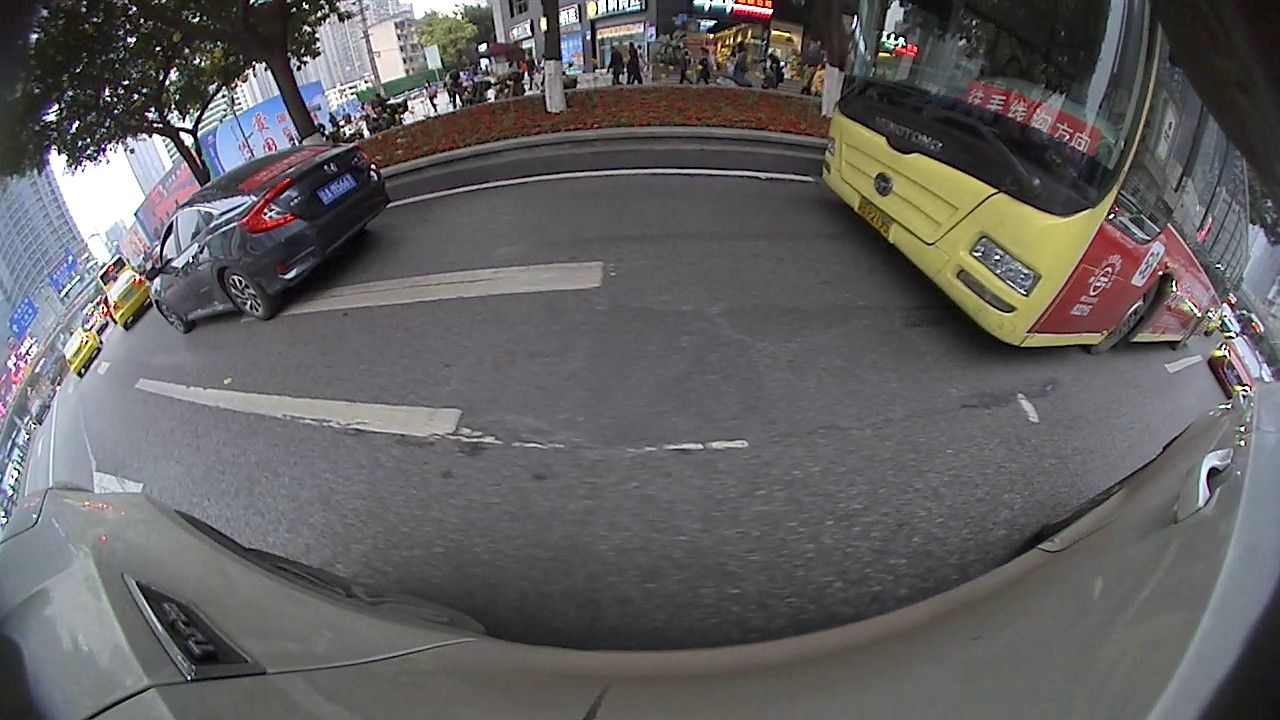bus: (815, 1, 1257, 355)
car: (145, 134, 394, 335), (1207, 324, 1275, 403), (102, 265, 156, 333), (59, 322, 104, 383)
front: (1084, 271, 1165, 357), (151, 300, 193, 337)
rear: (215, 269, 277, 323)
